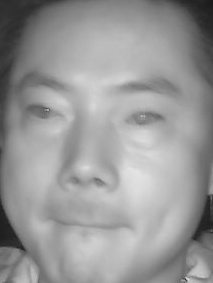eye: (20, 100, 63, 127), (125, 105, 165, 133)
mouth: (45, 203, 129, 247)
